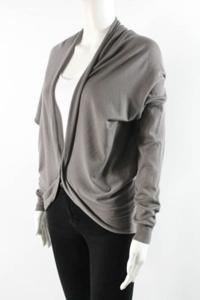S_cardigan sweater: (19, 33, 178, 244)
